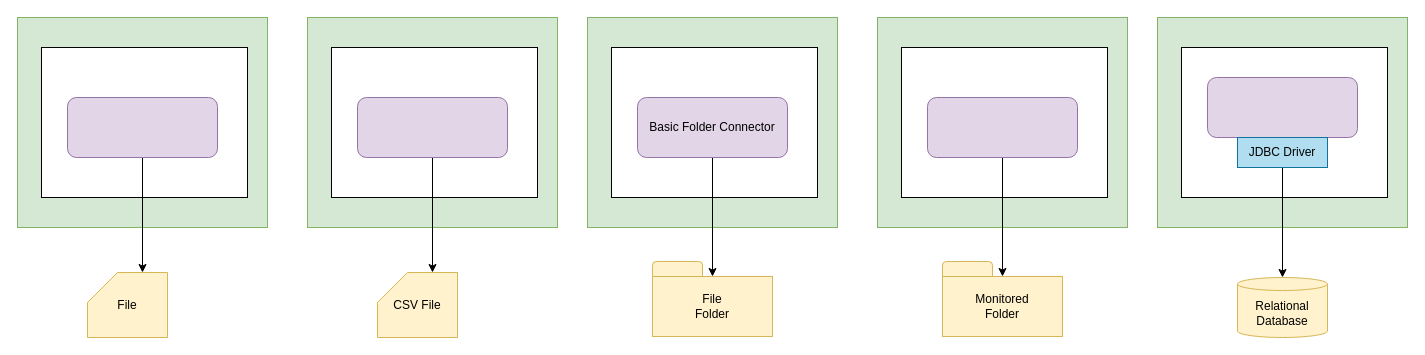
This 1425x355 diagram has some shape labels left out. The shapes that lost their labels are listed below. From the top down, each one's centre as x and y in pixels, then its label:
At pixel 142 127: "Basic File Connector".
At pixel 432 127: "CSV File Connector".
At pixel 1002 127: "Data Folder Connector".
At pixel 1282 107: "JDBC Resource Connector".
